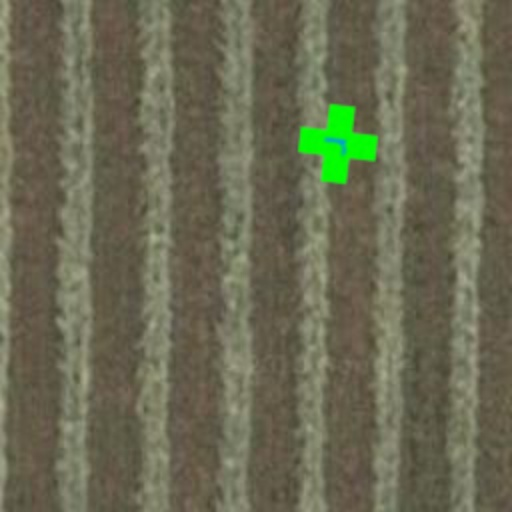cross: (294, 100, 382, 188)
